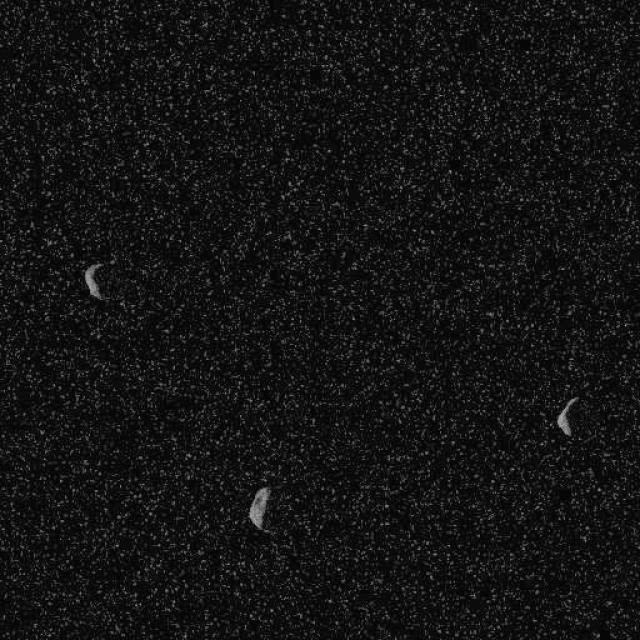D2: (246, 485, 272, 531), (555, 395, 579, 436), (82, 260, 106, 301)
